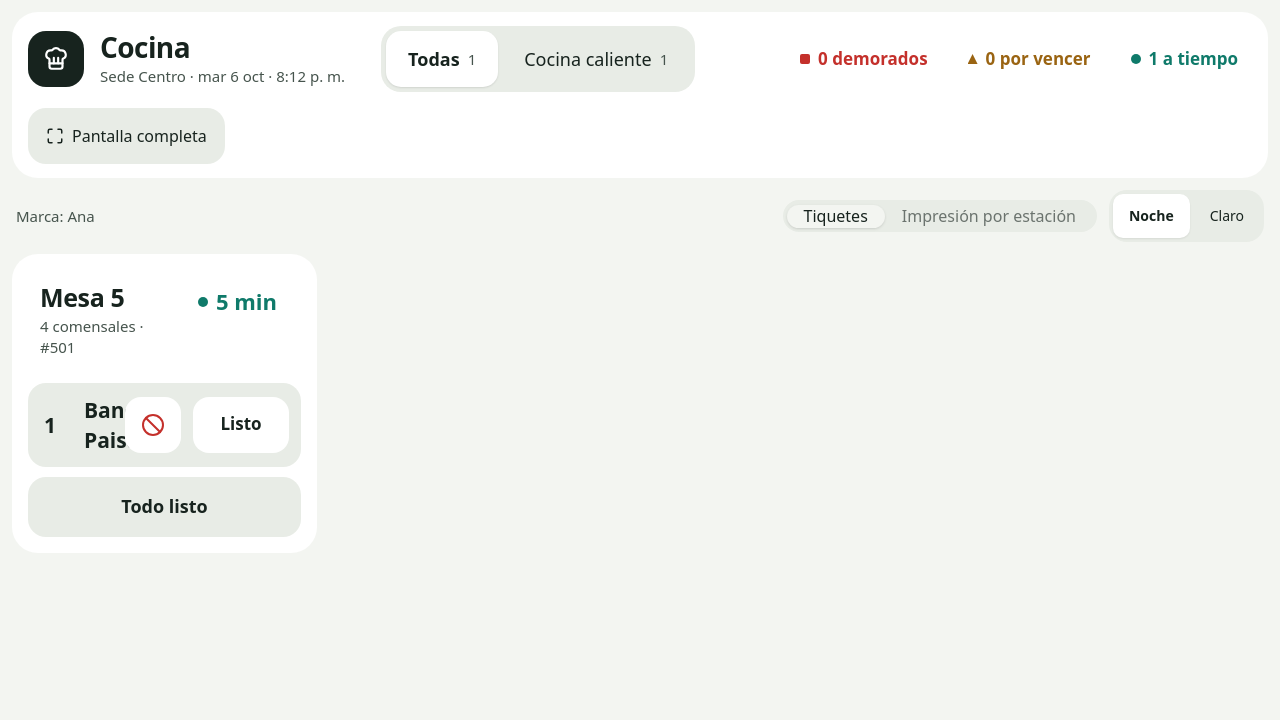
KdsPage › «Agotado» de un toque marca el plato agotado en la carta, con Idempotency-Key
Click the button named "Agotado: Bandeja Paisa" at (153, 424), box top-left (125, 396), bottom-right (181, 452)
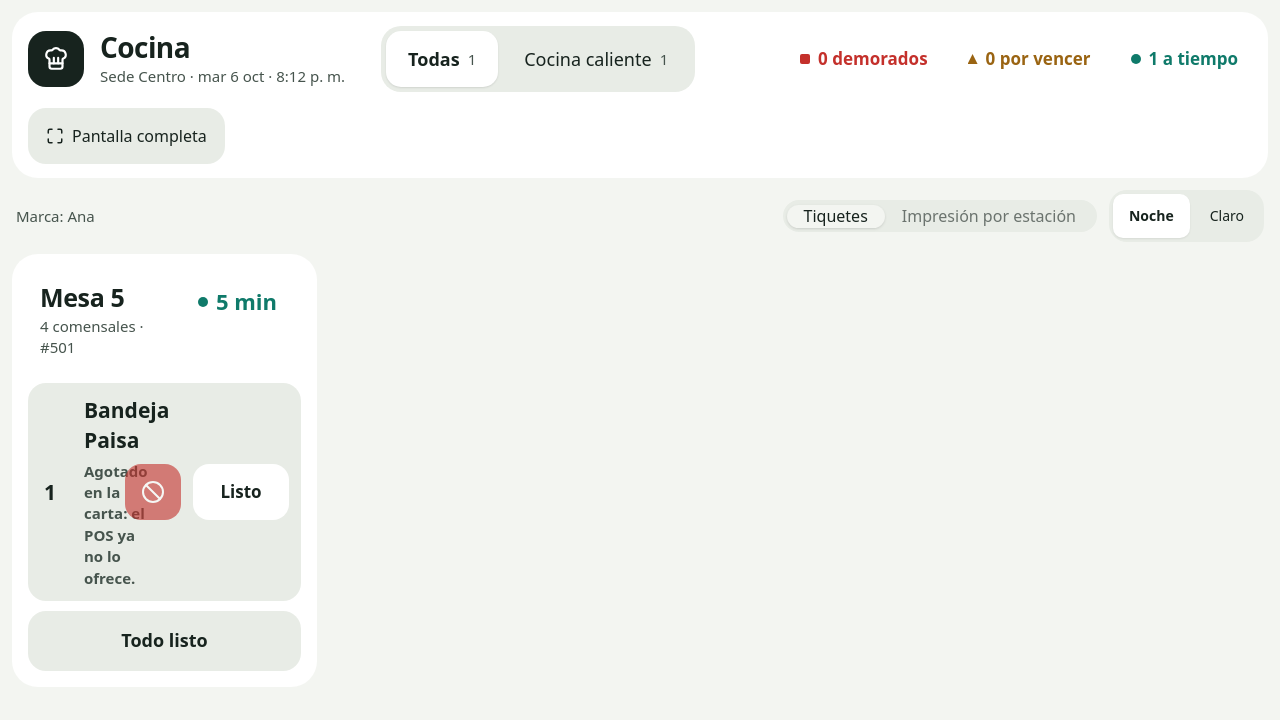
Result: the text "Agotado en la carta: el POS ya no lo ofrece." is shown at top-left (84, 460), bottom-right (148, 589)
Result: the button named "Bandeja Paisa: agotado en la carta" is disabled at top-left (125, 464), bottom-right (181, 520)
